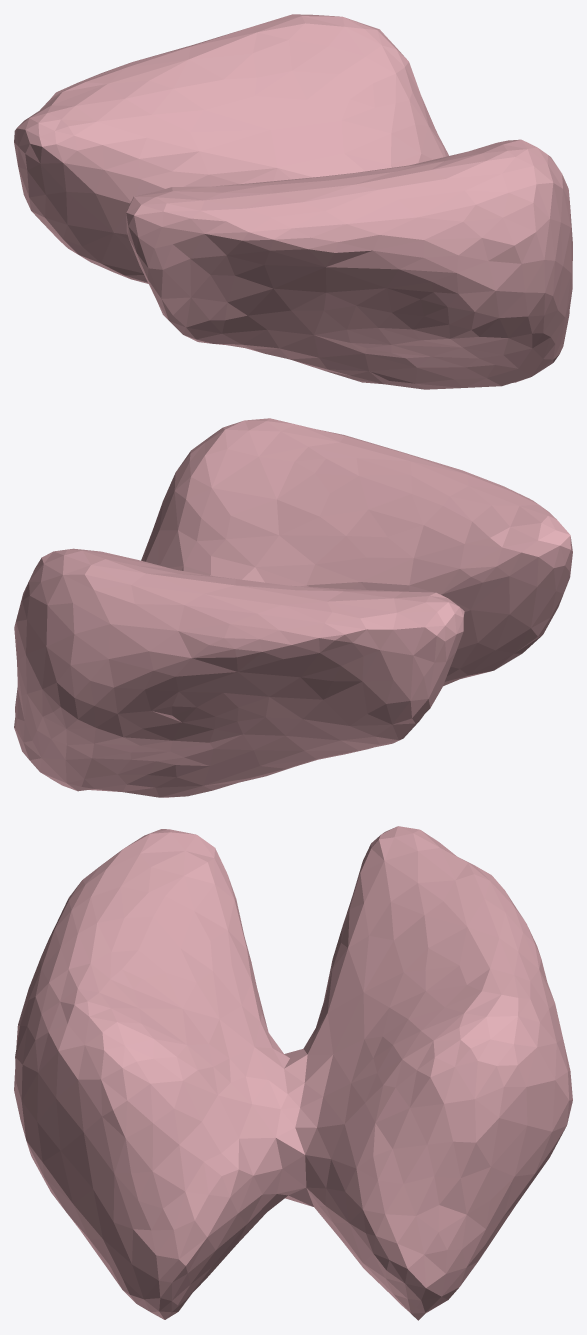
3 views of the same model, one above another, from view 1: azimuth 30°, elevation 25°; view 2: azimuth 150°, elevation 25°; view 3: azimuth 270°, elevation 25° (orthographic). The views are drawn at different scales.
Parts seen in each view (by area): view 1: 958.obj; view 2: 958.obj; view 3: 958.obj.
Part boxes in pixels (x1=…): 958.obj: x1=14, y1=14, x2=572, y2=389; 958.obj: x1=14, y1=418, x2=572, y2=797; 958.obj: x1=14, y1=826, x2=572, y2=1320.
Size of the model in its own units: 1433 by 839 by 1440.
